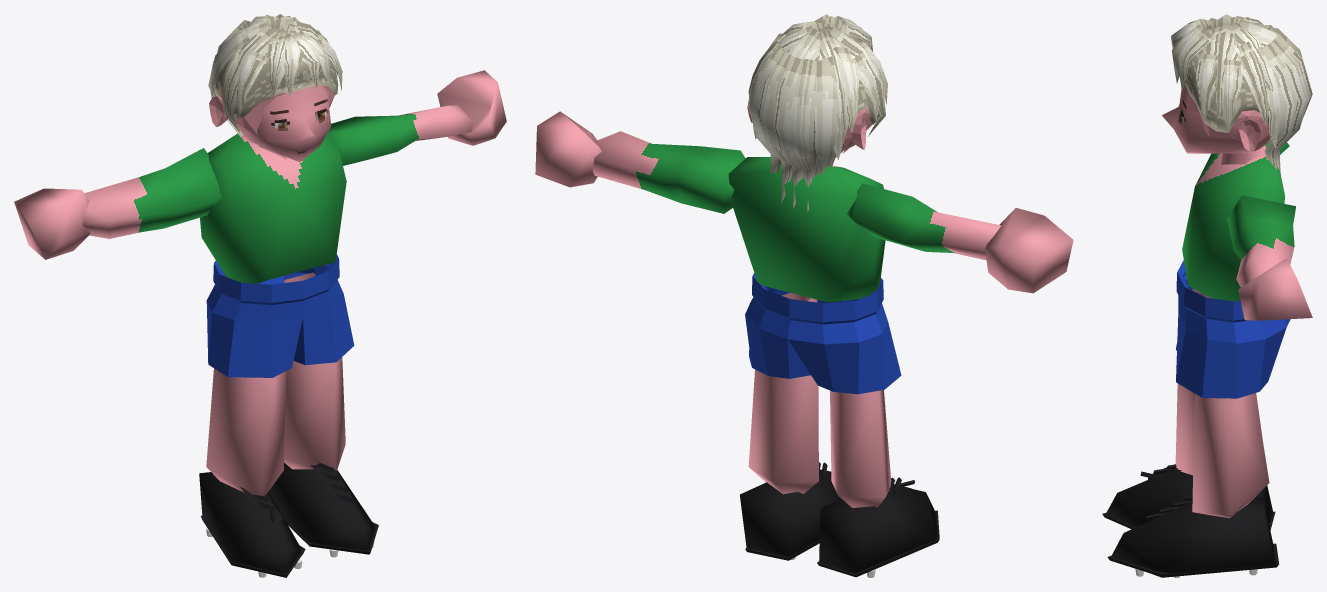
File: 07-mullet_loiro-pintado.glb
3 views of the same model, side by side, from view 1: azimuth 30°, elevation 25°; view 2: azimuth 150°, elevation 25°; view 3: azimuth 270°, elevation 25° (orthographic). The views are drawn at different scales.
Parts seen in each view (by area): view 1: Camisa_Tronco, Bermuda, Cabelo, Perna.R, Braco.R, Perna.L, Chuteira.R, Chuteira.L, Braco.L, Cabeca, Mao.R, Mao.L (+3 smaller); view 2: Cabelo, Camisa_Tronco, Bermuda, Perna.L, Braco.L, Chuteira.R, Perna.R, Braco.R, Mao.R, Chuteira.L, Mao.L, Chuteira_Sola.R; view 3: Cabelo, Bermuda, Chuteira.L, Camisa_Tronco, Perna.L, Braco.L, Mao.L, Chuteira.R, Cabeca, Perna.R, Chuteira_Sola.L, Cranio (+4 smaller).
Part boxes in pixels (x1,y1,x2,y2): Camisa_Tronco: (200, 133, 346, 283); Bermuda: (206, 254, 354, 377); Cabelo: (208, 14, 342, 137); Perna.R: (206, 368, 286, 500); Braco.R: (82, 148, 222, 238); Perna.L: (284, 272, 345, 471); Chuteira.R: (199, 472, 303, 573); Chuteira.L: (269, 462, 374, 550); Braco.L: (328, 105, 473, 165); Cabeca: (236, 84, 331, 162); Mao.R: (14, 188, 90, 259); Mao.L: (437, 70, 506, 145); Cabelo: (748, 14, 887, 211); Camisa_Tronco: (728, 157, 885, 302); Bermuda: (745, 273, 901, 394); Perna.L: (748, 293, 818, 494); Braco.L: (593, 131, 745, 213); Chuteira.R: (819, 484, 937, 572); Perna.R: (830, 390, 891, 507); Braco.R: (847, 183, 1001, 260); Mao.R: (985, 208, 1073, 293); Chuteira.L: (740, 469, 841, 556); Mao.L: (535, 111, 601, 187); Chuteira_Sola.R: (817, 510, 939, 577); Cabelo: (1171, 14, 1312, 174); Bermuda: (1176, 260, 1290, 398); Chuteira.L: (1111, 497, 1276, 577); Camisa_Tronco: (1182, 143, 1284, 301); Perna.L: (1192, 393, 1269, 518); Braco.L: (1227, 195, 1295, 287); Mao.L: (1238, 258, 1312, 320); Chuteira.R: (1106, 467, 1272, 526); Cabeca: (1162, 84, 1254, 153); Perna.R: (1175, 288, 1262, 475); Chuteira_Sola.L: (1107, 543, 1278, 577); Cranio: (1202, 110, 1270, 153).
Bounding box in the file's own units: 0.4523 × 0.45 × 0.1617.
Materials: 3 (3 with a texture image).
